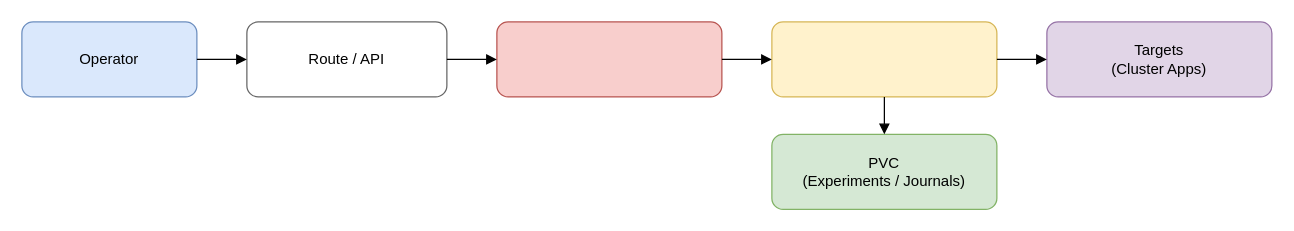
Image size: 1294x231. Some labels were removed from this diagram. The shapes that lost their labels are listed below. From the top down, each one's centre as x and y in pixels, then its label:
At point 609,59: "Orchestrator Service".
At point 884,59: "Handler Service".
